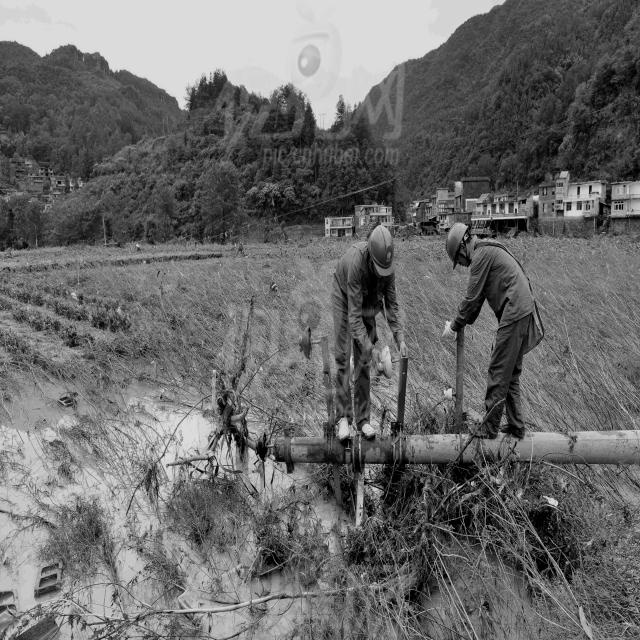face_nomask: (454, 236, 468, 276)
hand_glove: (439, 317, 459, 351)
hand_noglove: (369, 342, 387, 377), (398, 339, 408, 366)
head_helmet: (369, 223, 396, 273), (442, 224, 468, 259)
person: (445, 216, 531, 435), (342, 220, 399, 428)
